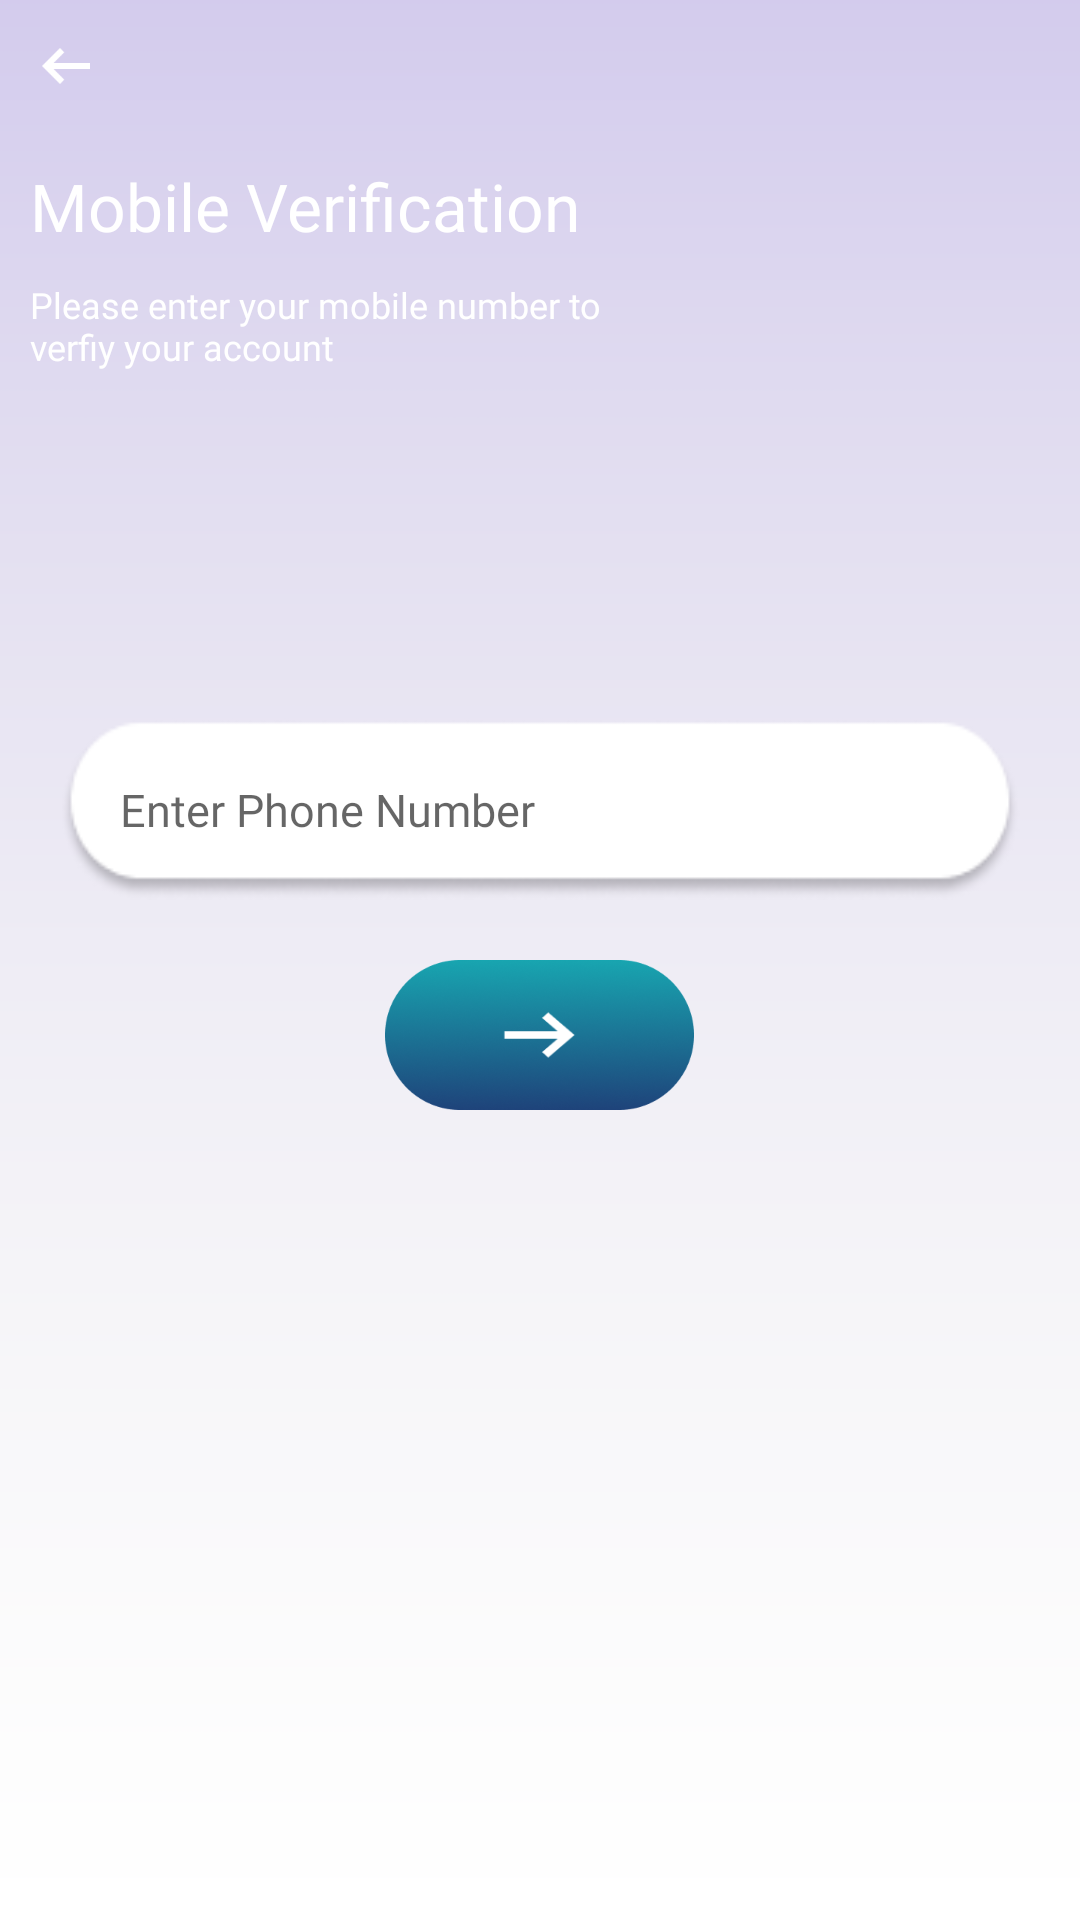

Icon click points for this 1080x1920 phone screenshot, format (x,y):
arrow right: (539,1035)
back arrow: (66,66)
